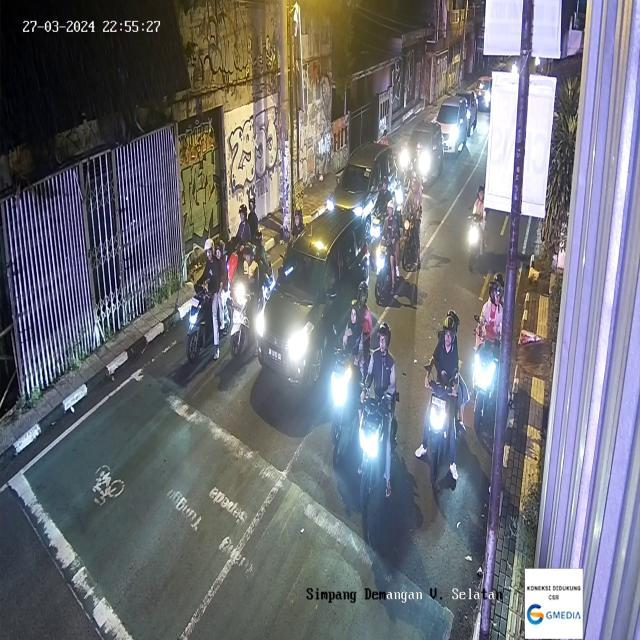car: (256, 206, 370, 390), (328, 145, 398, 227), (407, 116, 446, 184), (434, 95, 466, 158)
motorcycle: (354, 317, 399, 518), (422, 312, 466, 485), (328, 276, 372, 444), (233, 237, 276, 371), (472, 270, 507, 430), (188, 236, 230, 367), (374, 198, 400, 302), (230, 197, 261, 275), (402, 172, 421, 274), (469, 182, 488, 263)
